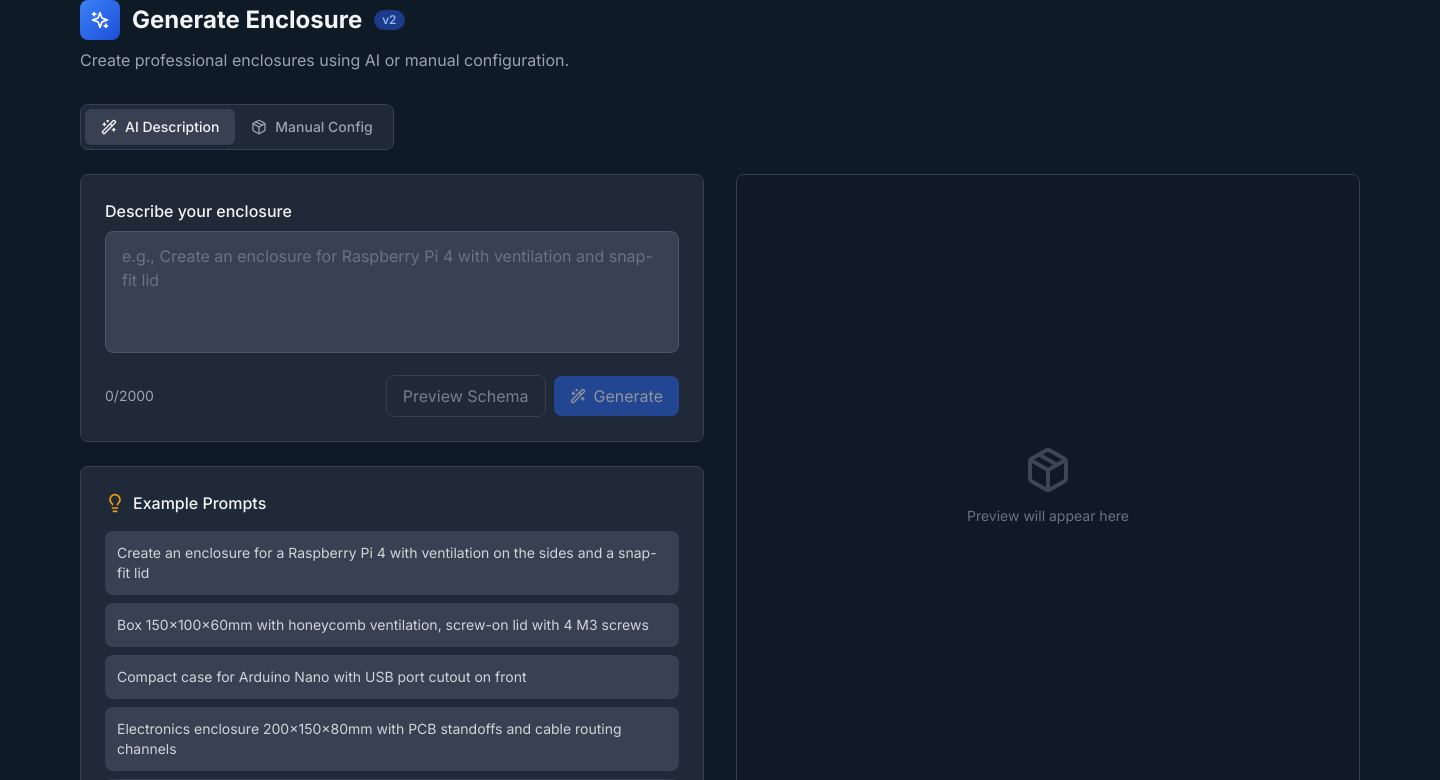
GeneratePageV2 › should enable generate button when description has content
Type "Test enclosure" into the text box at (392, 292), box [105,231,679,353]
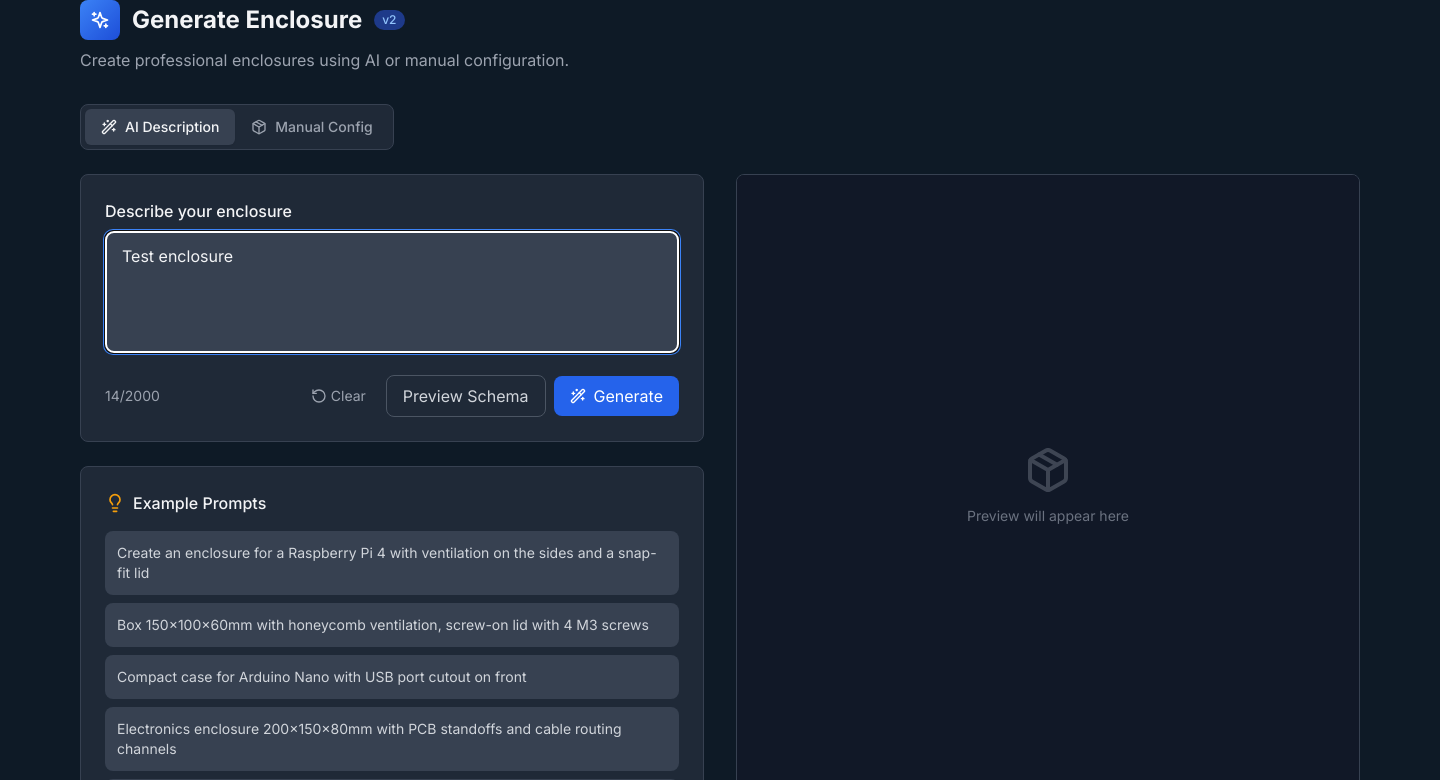
Expected: the button "Generate" is enabled, [554,376,679,416]
